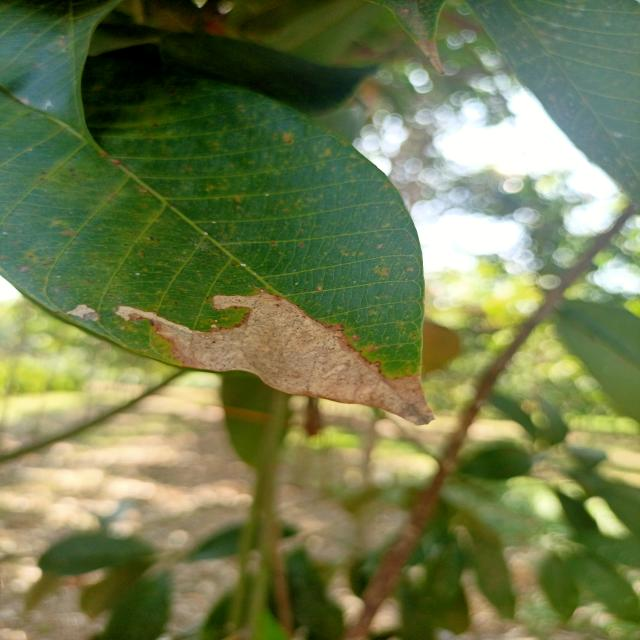Leaf-Blight: (117, 289, 436, 426), (68, 304, 99, 322)
